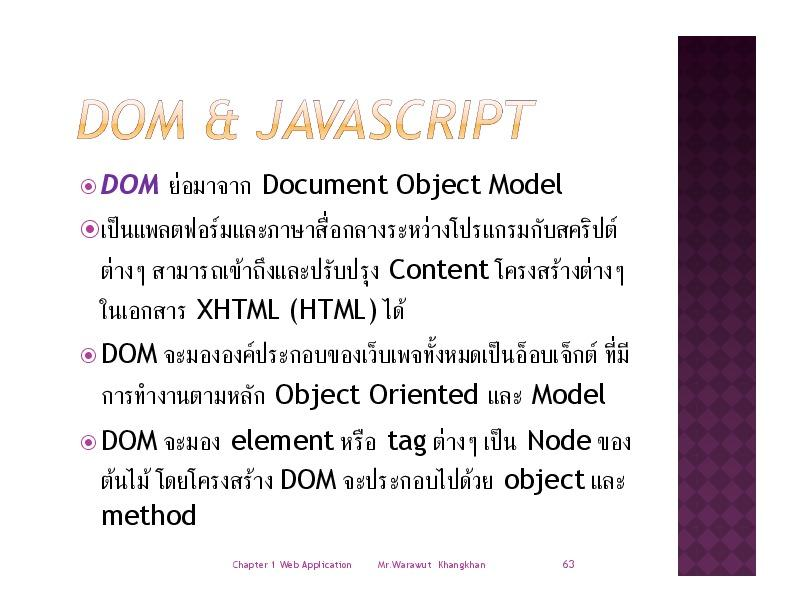paragraph: (71, 164, 650, 534)
subtitle: (211, 544, 599, 586)
title: (61, 82, 558, 155)
